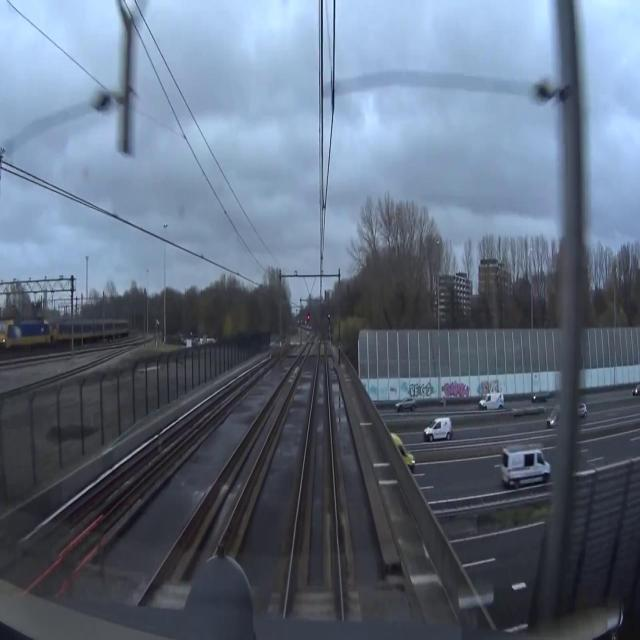rail-track: (119, 342, 310, 639), (0, 388, 238, 607), (284, 338, 341, 639)
